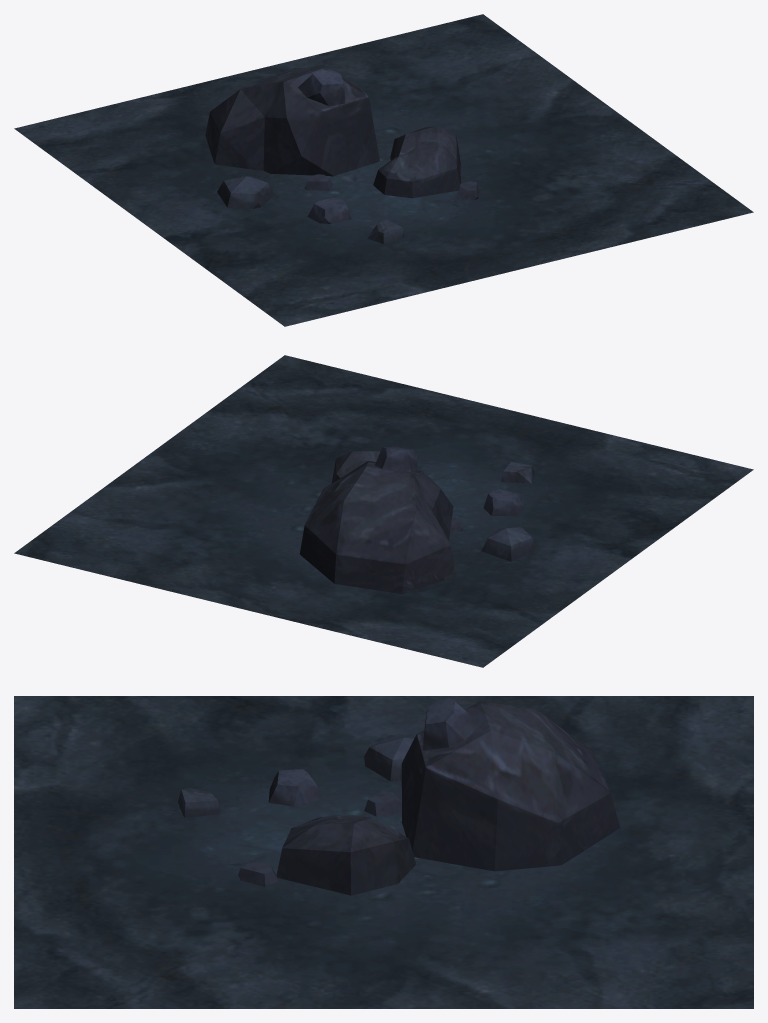
The model's file is mine_rubble_04.fbx.
The picture shows the model from 3 angles, top to bottom: view 1: azimuth 30°, elevation 25°; view 2: azimuth 150°, elevation 25°; view 3: azimuth 270°, elevation 25°; orthographic projection. The views are drawn at different scales.
Parts seen in each view (by area): view 1: mine_rubble_04-0; view 2: mine_rubble_04-0; view 3: mine_rubble_04-0.
Boxes of the visible parts, x1,y1,x2,y2 form: mine_rubble_04-0: (14, 14, 753, 326); mine_rubble_04-0: (14, 355, 753, 667); mine_rubble_04-0: (14, 696, 753, 1008).
Size of the model in its own units: 4 by 0.7884 by 4.
